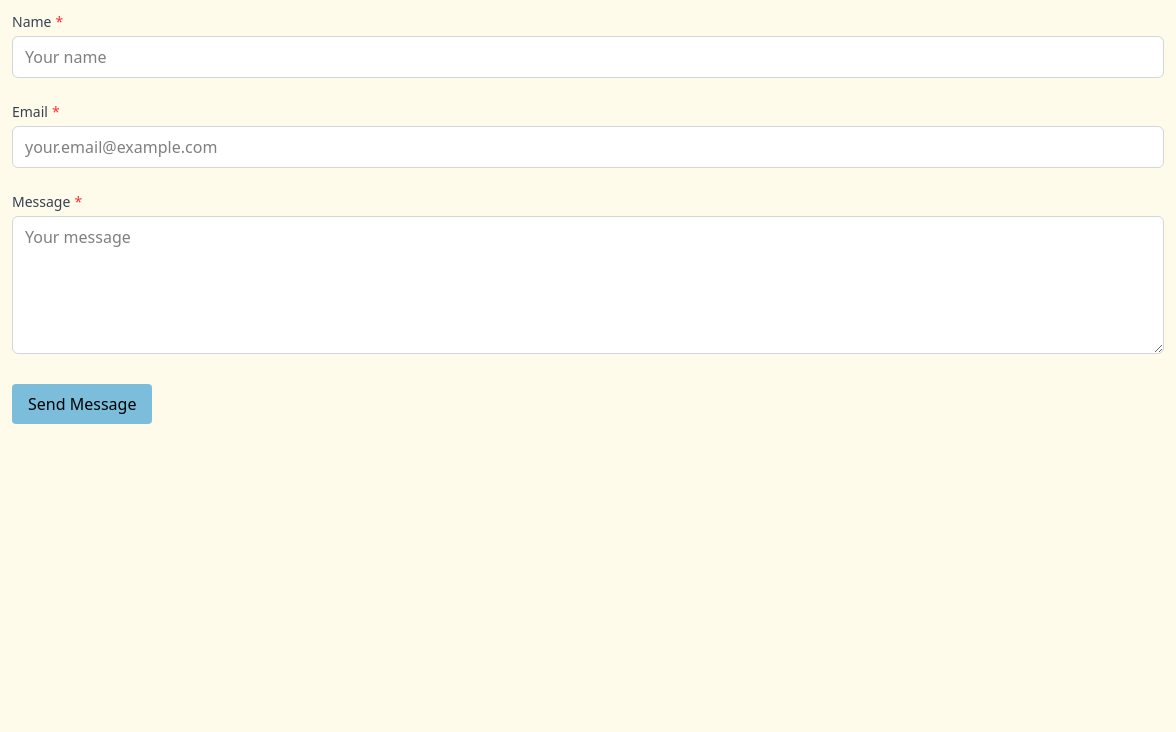
ContactForm component › shows success message after successful submission
# Fill the form
Type "John Doe" into the field labelled "Name*".
click(588, 57); type("John Doe")  # box top-left (12, 36), bottom-right (1164, 78)
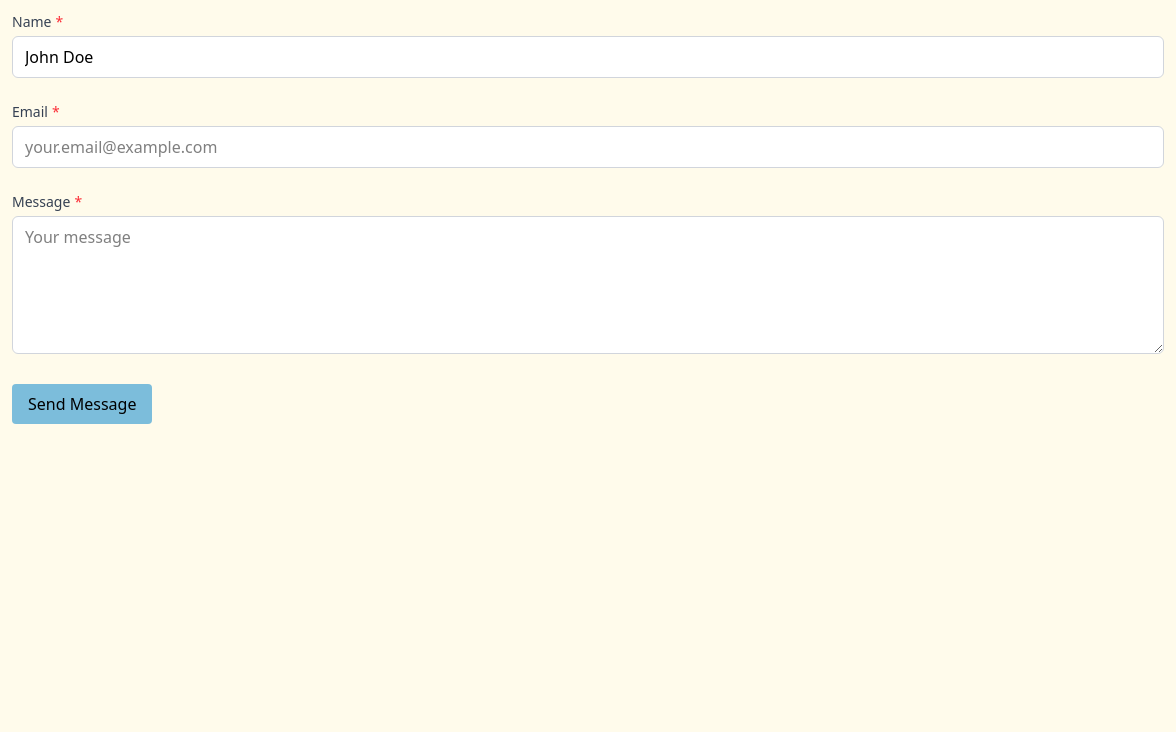
Type "john@example.com" into the field labelled "Email*".
click(588, 147); type("john@example.com")  # box top-left (12, 126), bottom-right (1164, 168)
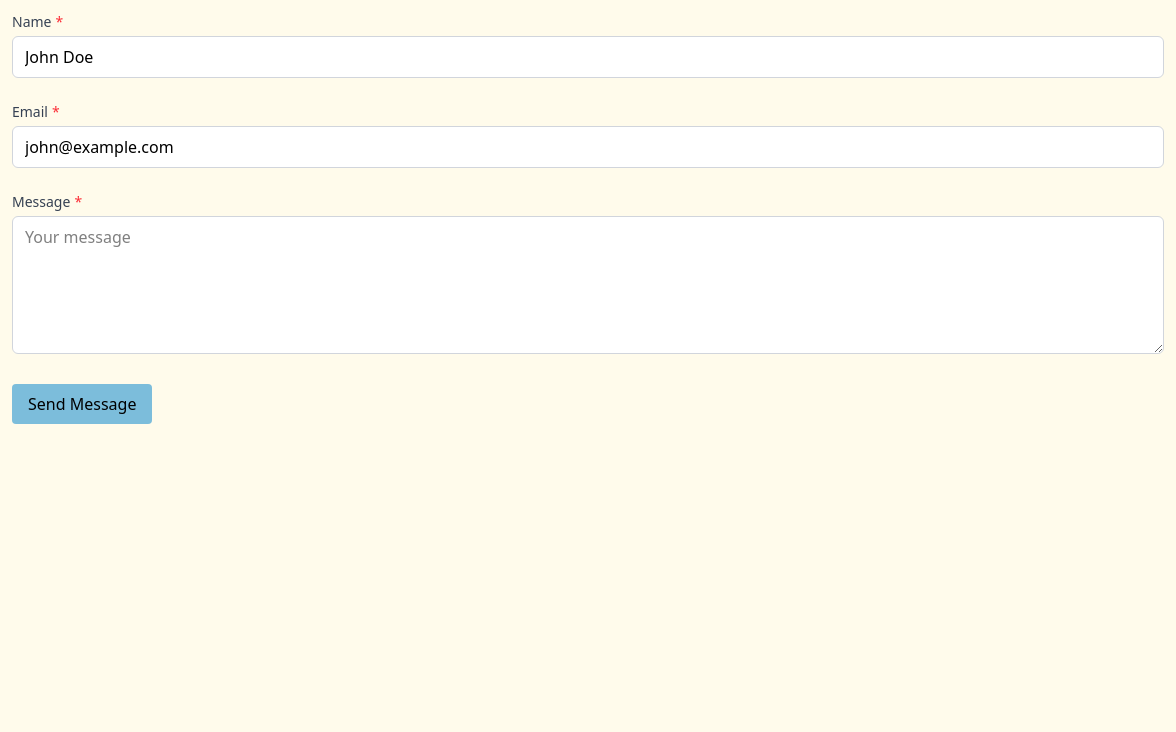
Type "Test message" into the text box labelled "Message*".
click(588, 285); type("Test message")  # box top-left (12, 216), bottom-right (1164, 354)
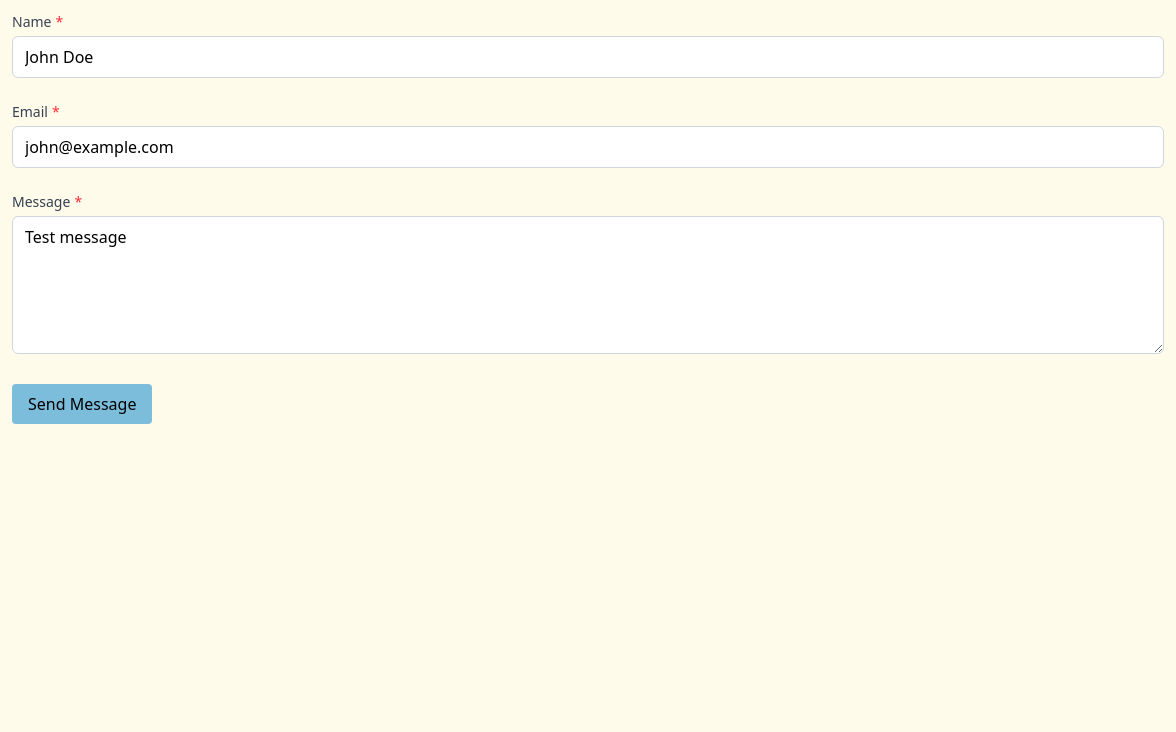
# Submit form
Click the button "Send Message".
click(82, 404)  # box top-left (12, 384), bottom-right (152, 424)
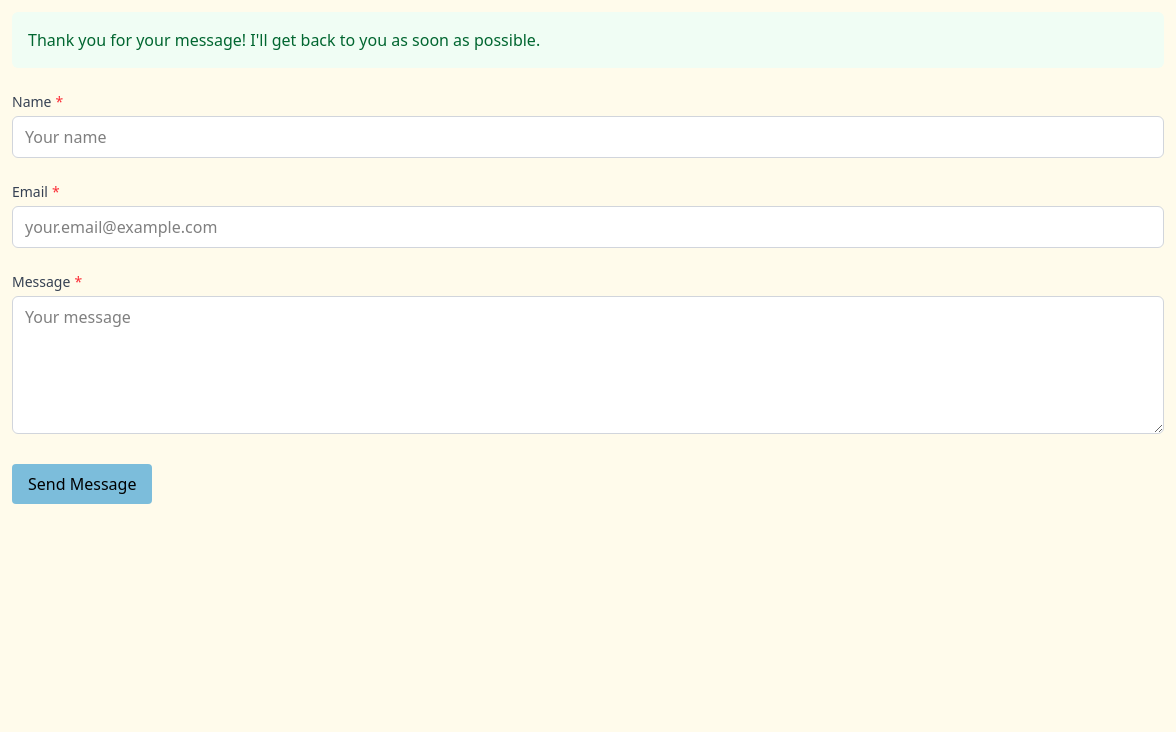
Now the text "Thank you for your message" is shown, box top-left (28, 29), bottom-right (540, 51)
